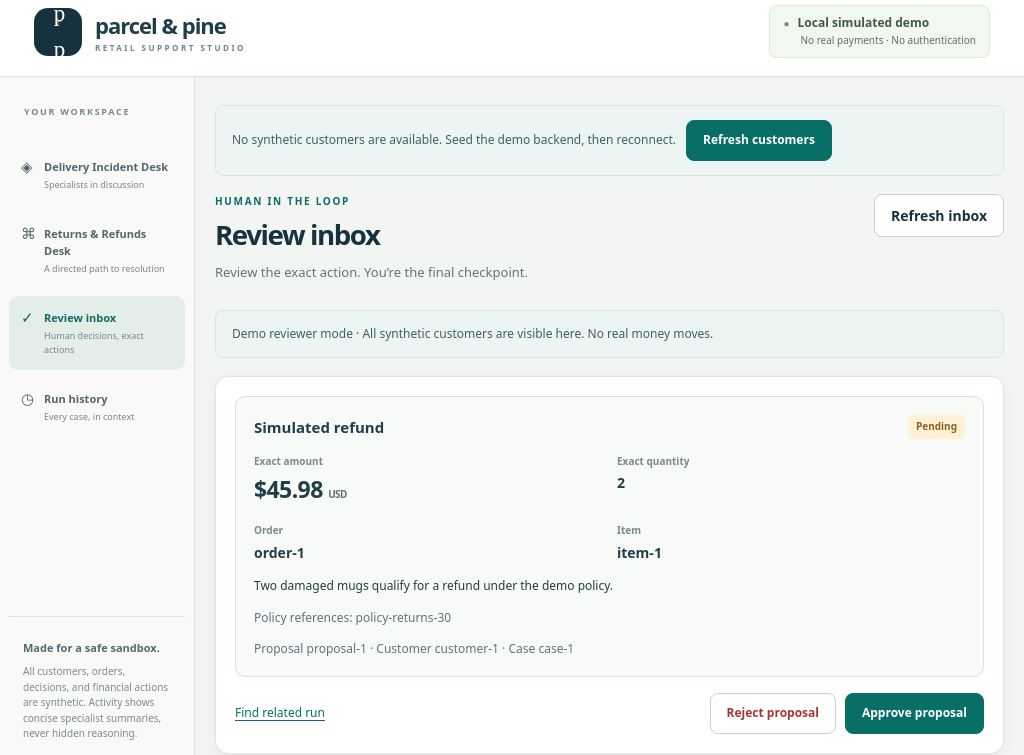
it: shows exact proposal values, confirms a decision, and handles a stale approval explicitly
Check: the text "$45.98" is shown, box [254,473,323,505]
Check: the text "2" is shown, box [617,473,625,492]
Click the button "Approve proposal" at (914, 714), box [845,693,984,734]
(page scrolled)
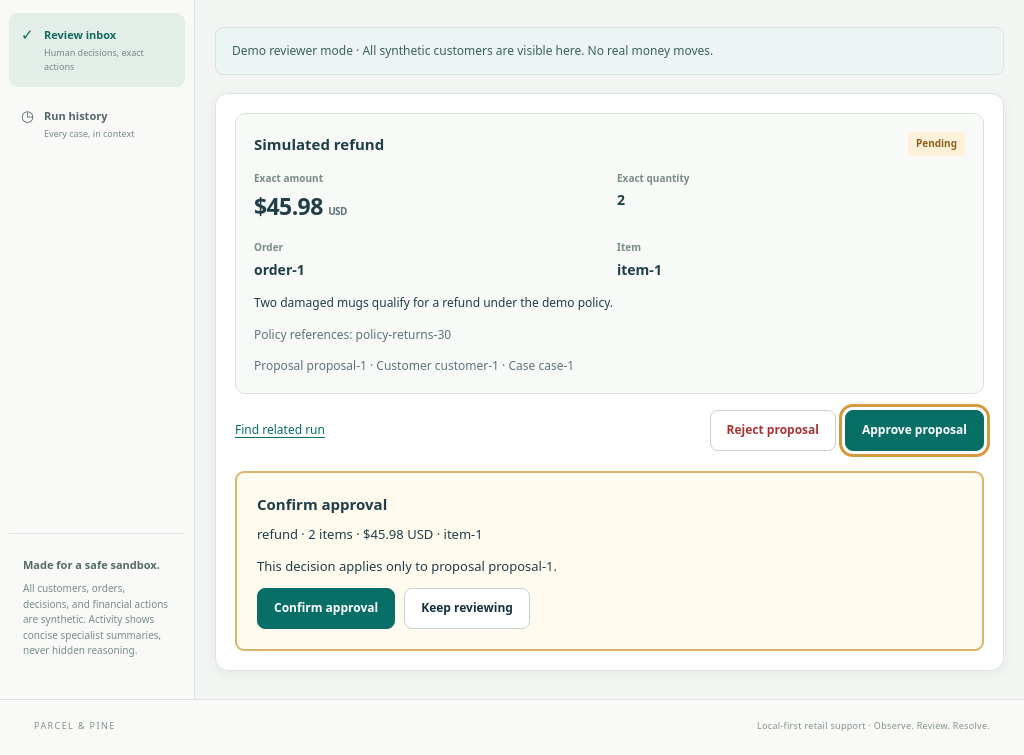
Click the button "Confirm approval" at (326, 609), box [257,588,395,629]
(page scrolled)
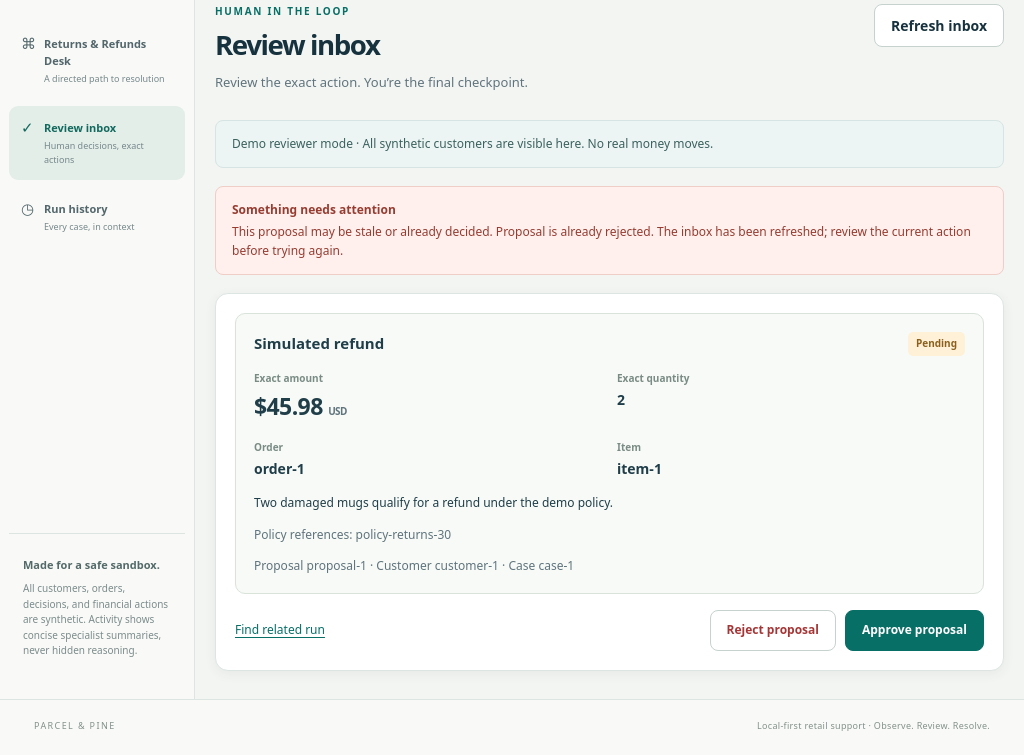
Check: the message is shown, box [215,186,1004,275]
Check: the message shows "stale or already decided", box [232,223,971,259]
Check: the message shows "Proposal is already rejected.", box [232,223,971,259]
